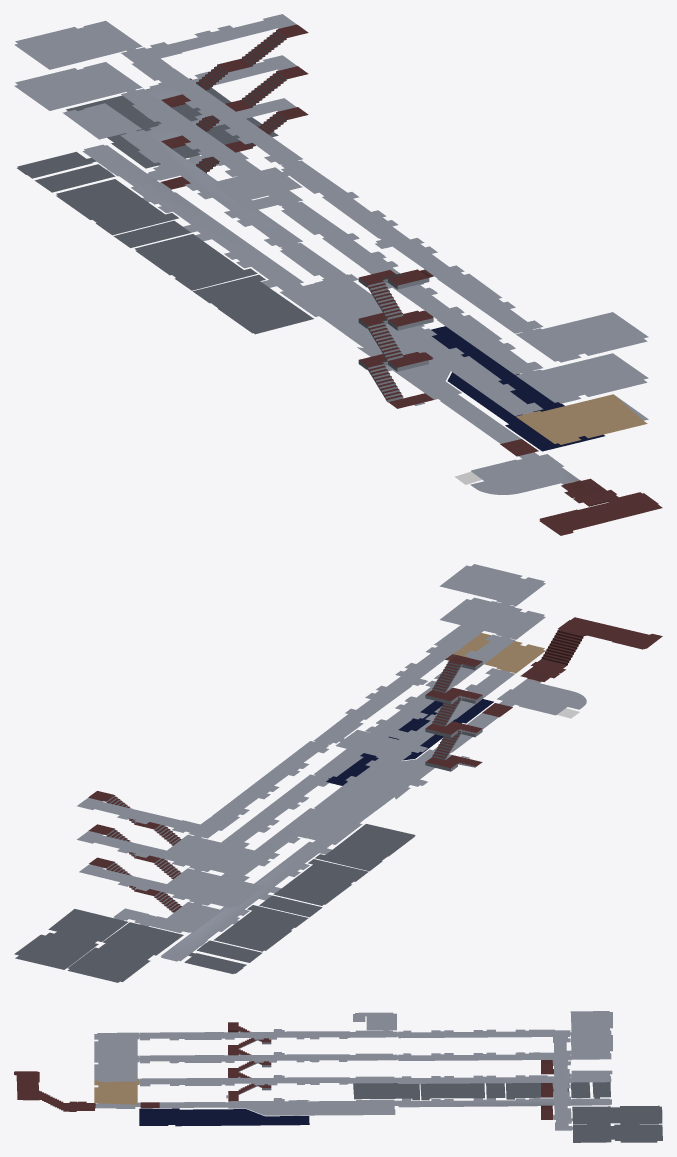
The model's file is ra_nav.fbx.
3 views of the same model, one above another, from view 1: azimuth 30°, elevation 25°; view 2: azimuth 150°, elevation 25°; view 3: azimuth 270°, elevation 25° (orthographic). The views are drawn at different scales.
Parts seen in each view (by area): view 1: ra1_nav; view 2: ra1_nav; view 3: ra1_nav.
Part boxes in pixels (box(x1,y1,x2,y2)): ra1_nav: box(14, 14, 662, 535); ra1_nav: box(14, 564, 662, 982); ra1_nav: box(14, 1011, 662, 1142).
Size of the model in its own units: 2123 by 1084 by 9190.
